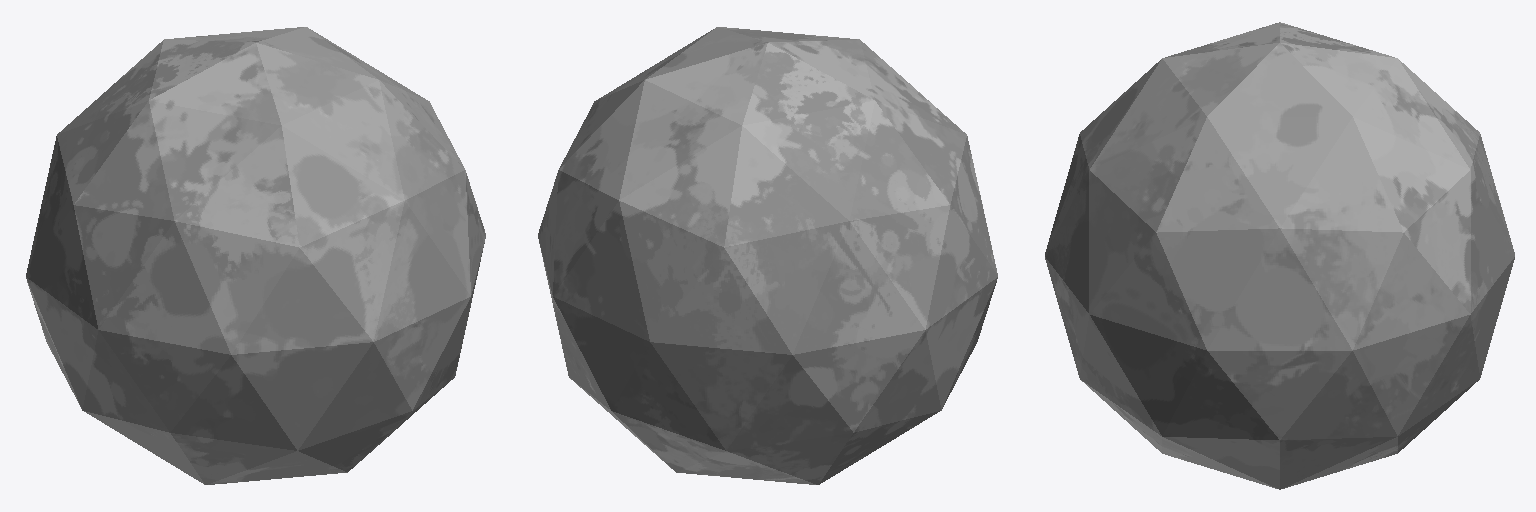
3 views of the same model, side by side, from view 1: azimuth 30°, elevation 25°; view 2: azimuth 150°, elevation 25°; view 3: azimuth 270°, elevation 25° (orthographic).
Parts seen in each view (by area): view 1: ICO球; view 2: ICO球; view 3: ICO球.
Part boxes in pixels (x1,y1,x2,y2): ICO球: (26, 27, 485, 484); ICO球: (538, 27, 997, 484); ICO球: (1045, 22, 1514, 489).
Bounding box in the file's own units: 1.9 × 2 × 2.
Materials: 1 (1 with a texture image).